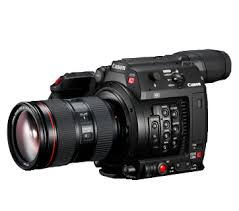camera: (9, 53, 228, 179)
